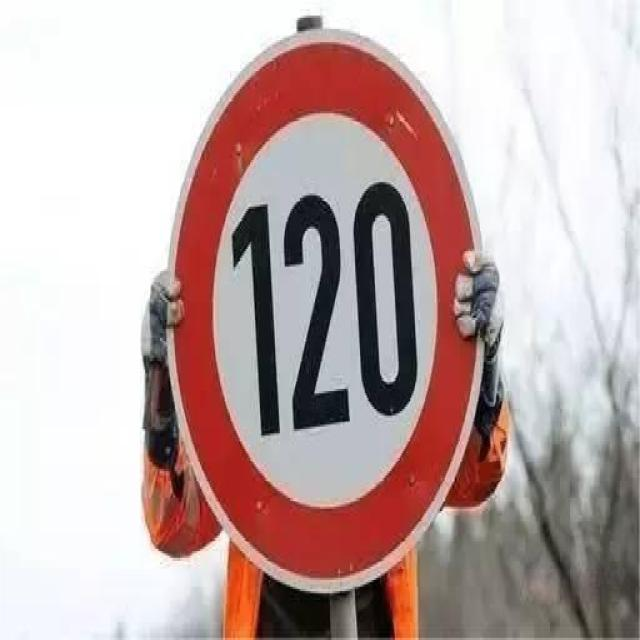speed limit 120: (164, 32, 484, 592)
